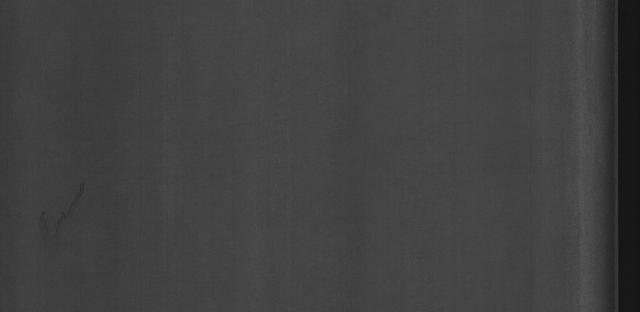water_spot: (25, 179, 108, 250)
